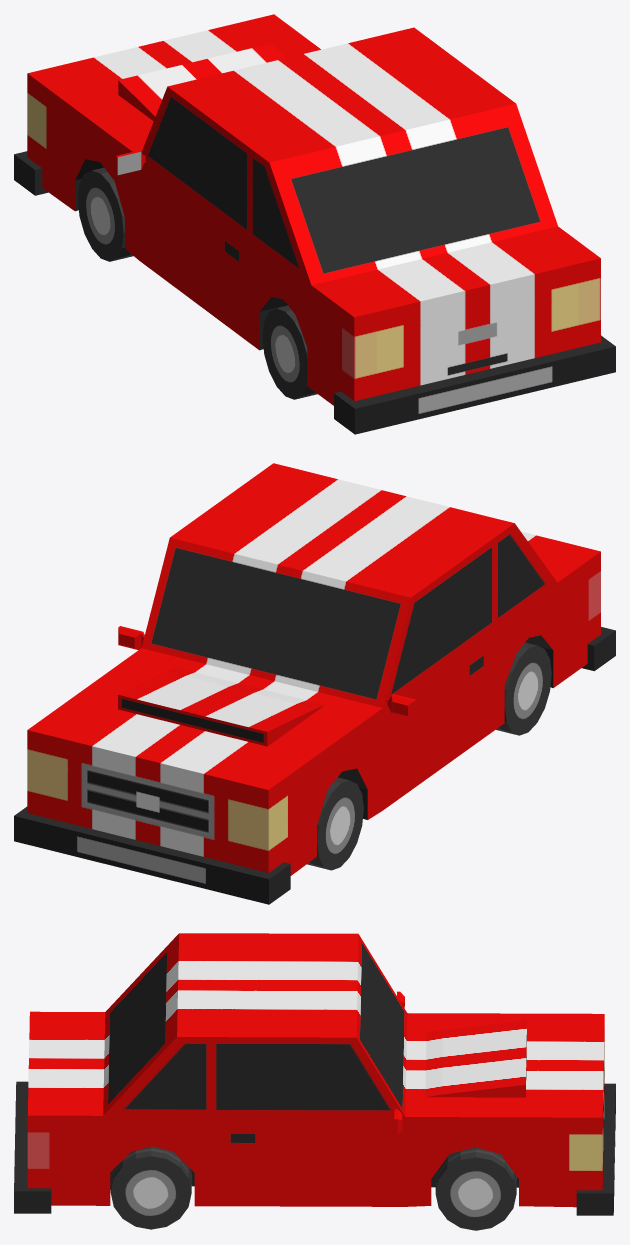
The model's file is car.obj.
3 views of the same model, one above another, from view 1: azimuth 30°, elevation 25°; view 2: azimuth 150°, elevation 25°; view 3: azimuth 270°, elevation 25° (orthographic). The views are drawn at different scales.
Visible parts, largest first — view 1: Car_Body_Cube.001, WheelFL_Cube.005, WheelRl_Cube.002; view 2: Car_Body_Cube.001, WheelRl_Cube.002, WheelFL_Cube.005; view 3: Car_Body_Cube.001, WheelFR_Cube.006, WheelRR_Cube.007.
Boxes of the visible parts, x1,y1,x2,y2 form: Car_Body_Cube.001: (14, 14, 615, 434); WheelFL_Cube.005: (77, 167, 133, 261); WheelRl_Cube.002: (262, 305, 317, 399); Car_Body_Cube.001: (14, 463, 615, 904); WheelRl_Cube.002: (496, 642, 551, 735); WheelFL_Cube.005: (307, 777, 363, 870); Car_Body_Cube.001: (14, 933, 615, 1215); WheelFR_Cube.006: (435, 1147, 516, 1230); WheelRR_Cube.007: (110, 1146, 191, 1229).
Bounding box in the file's own units: 3.47 × 2.46 × 6.93.
